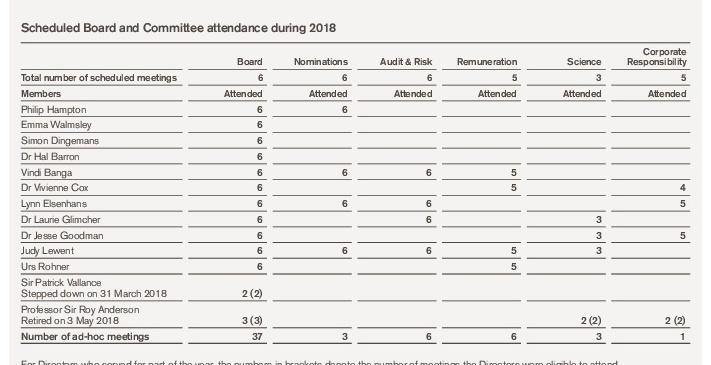table: (0, 0, 711, 365)
